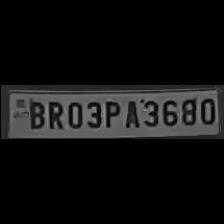0: (64, 99, 82, 129), (198, 96, 216, 124)
3: (140, 96, 158, 128), (84, 97, 102, 128)
6: (160, 97, 178, 127)
8: (178, 96, 196, 126)
A: (120, 97, 140, 129)
B: (24, 98, 43, 130)
P: (100, 97, 119, 129)
R: (44, 98, 62, 130)
